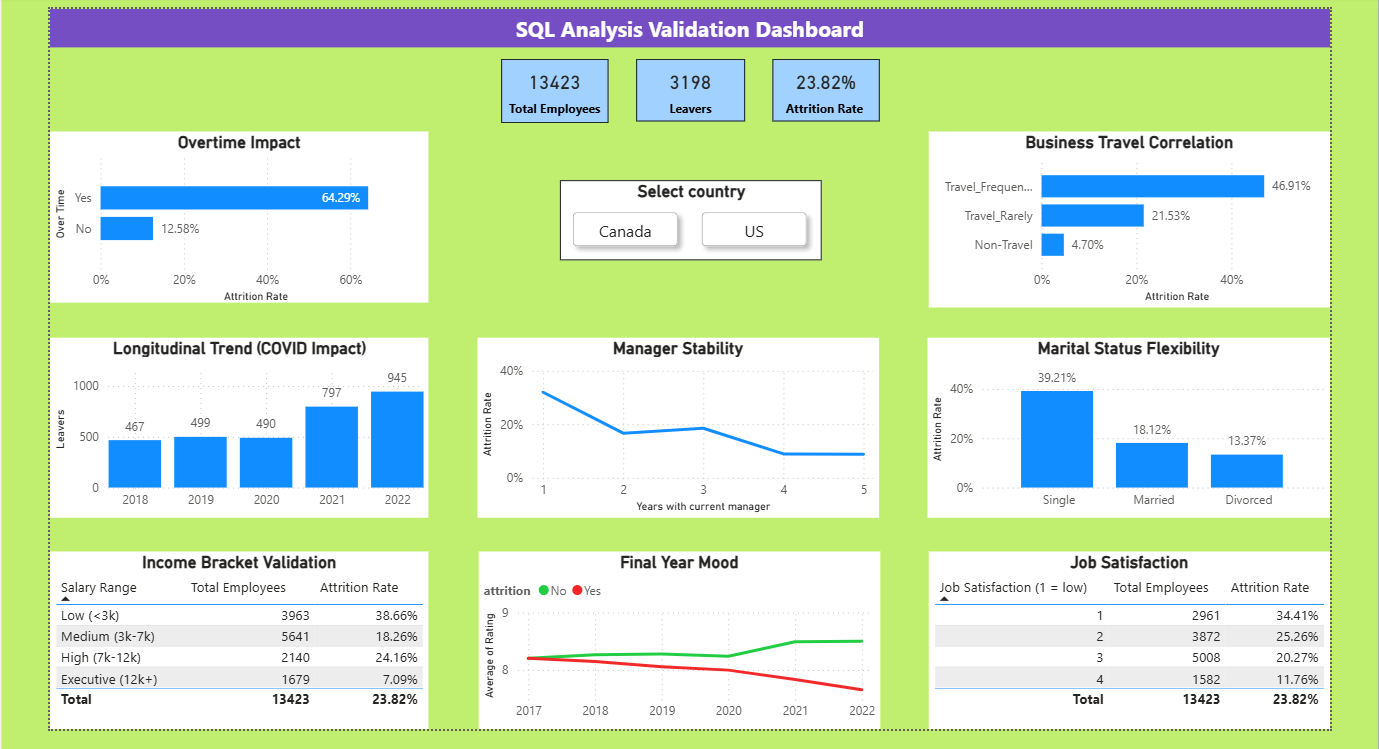

The page's visual inventory and layout, read from the dashboard file:
{"tool":"powerbi","page":{"name":"Page 1","canvas":[1280,720],"ordinal":0},"visuals":[{"type":"clusteredBarChart","title":"Overtime Impact","fields":{"Category":["HR_data.over_time"],"Y":["HR_data.Attrition Rate %"]},"box":[0,122.5,378.8,171.2],"z":0},{"type":"tableEx","title":"Income Bracket Validation","fields":{"Values":["HR_data.income_bracket","Employee_survey.Total Employees","HR_data.Attrition Rate %"]},"box":[0,542.5,378.8,177.5],"z":1000},{"type":"lineChart","title":"Manager Stability","fields":{"Category":["HR_data.years_with_curr_manager"],"Y":["HR_data.Attrition Rate %"]},"box":[427.5,328.8,401.2,180],"z":2000},{"type":"lineChart","title":"Final Year Mood","fields":{"Category":["Employee_survey.rated_year.Variation.Date Hierarchy.Year","Employee_survey.rated_year.Variation.Date Hierarchy.Quarter","Employee_survey.rated_year.Variation.Date Hierarchy.Month","Employee_survey.rated_year.Variation.Date Hierarchy.Day"],"Y":["Avg(Employee_survey.rating)"],"Series":["HR_data.attrition"]},"box":[428.1,542.5,401.2,177.5],"z":3000},{"type":"columnChart","title":"Longitudinal Trend (COVID Impact)","fields":{"Category":["HR_data.leaving_year.Variation.Date Hierarchy.Year","HR_data.leaving_year.Variation.Date Hierarchy.Quarter","HR_data.leaving_year.Variation.Date Hierarchy.Month","HR_data.leaving_year.Variation.Date Hierarchy.Day"],"Y":["Employee_survey.Leavers"]},"box":[0,328.8,378.8,180],"z":4000},{"type":"clusteredBarChart","title":"Business Travel Correlation","fields":{"Category":["HR_data.business_travel"],"Y":["HR_data.Attrition Rate %"]},"box":[878.8,122.5,401.2,176.2],"z":5000},{"type":"clusteredColumnChart","title":"Marital Status Flexibility","fields":{"Category":["HR_data.marital_status"],"Y":["HR_data.Attrition Rate %"]},"box":[877.5,328.8,402.5,180],"z":6000},{"type":"tableEx","title":"Job Satisfaction","fields":{"Values":["HR_data.job_satisfaction","Employee_survey.Total Employees","HR_data.Attrition Rate %"]},"box":[878.8,542.5,401.2,177.5],"z":7000},{"type":"textbox","box":[0,0,1280,38.6],"z":8000},{"type":"advancedSlicerVisual","fields":{"Values":["Office_codes.country"]},"box":[509.4,171.2,261.2,80],"z":9000},{"type":"card","fields":{"Values":["Employee_survey.Total Employees"]},"box":[451.2,50,107.5,63.8],"z":10000},{"type":"card","fields":{"Values":["Employee_survey.Leavers"]},"box":[585.6,49.6,108.8,62.5],"z":11000},{"type":"card","fields":{"Values":["HR_data.Attrition Rate %"]},"box":[722.5,50,107.5,62.5],"z":12000}]}

Visuals, with their boxes on the page's 1280x720 design canvas (x1, y1, x2, y2). These are canvas units, not pixel positions in the 1379x749 screenshot, which may show the page scaled, cropped or inside an application window:
"Overtime Impact" clusteredBarChart: 0,122,379,294
"Income Bracket Validation" tableEx: 0,542,379,720
"Manager Stability" lineChart: 428,329,829,509
"Final Year Mood" lineChart: 428,542,829,720
"Longitudinal Trend (COVID Impact)" columnChart: 0,329,379,509
"Business Travel Correlation" clusteredBarChart: 879,122,1280,299
"Marital Status Flexibility" clusteredColumnChart: 878,329,1280,509
"Job Satisfaction" tableEx: 879,542,1280,720
textbox: 0,0,1280,39
advancedSlicerVisual - Office_codes.country: 509,171,771,251
card - Employee_survey.Total Employees: 451,50,559,114
card - Employee_survey.Leavers: 586,50,694,112
card - HR_data.Attrition Rate %: 722,50,830,112
